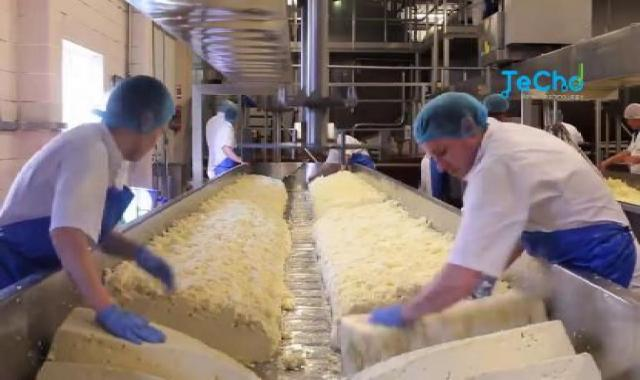hairnet: (99, 72, 175, 146), (406, 94, 484, 154), (488, 86, 518, 116), (211, 96, 245, 118), (621, 101, 640, 125)
